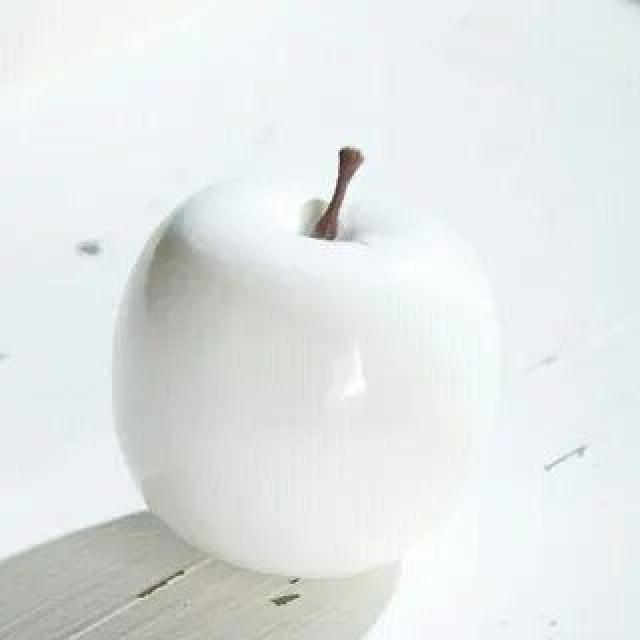fresh_apple: (112, 171, 502, 583)
